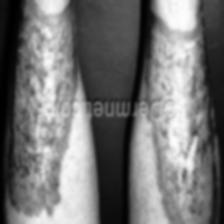Unclassified: (16, 133, 58, 215), (180, 34, 197, 58)
